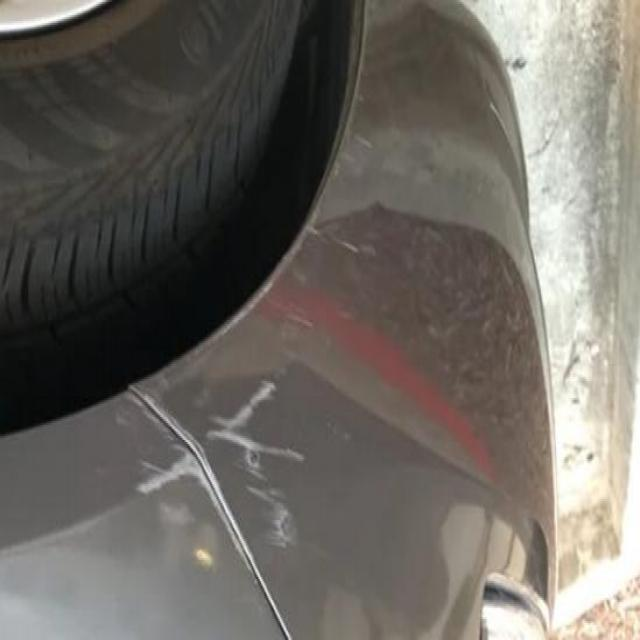scratch: (104, 366, 311, 562)
